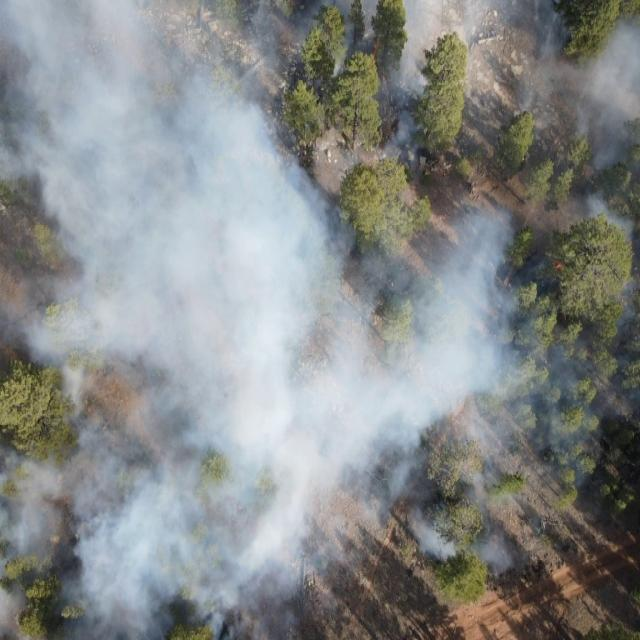fire: (368, 36, 381, 56), (552, 260, 568, 271)
smoke: (0, 0, 319, 640), (318, 165, 640, 574), (319, 0, 640, 162)
